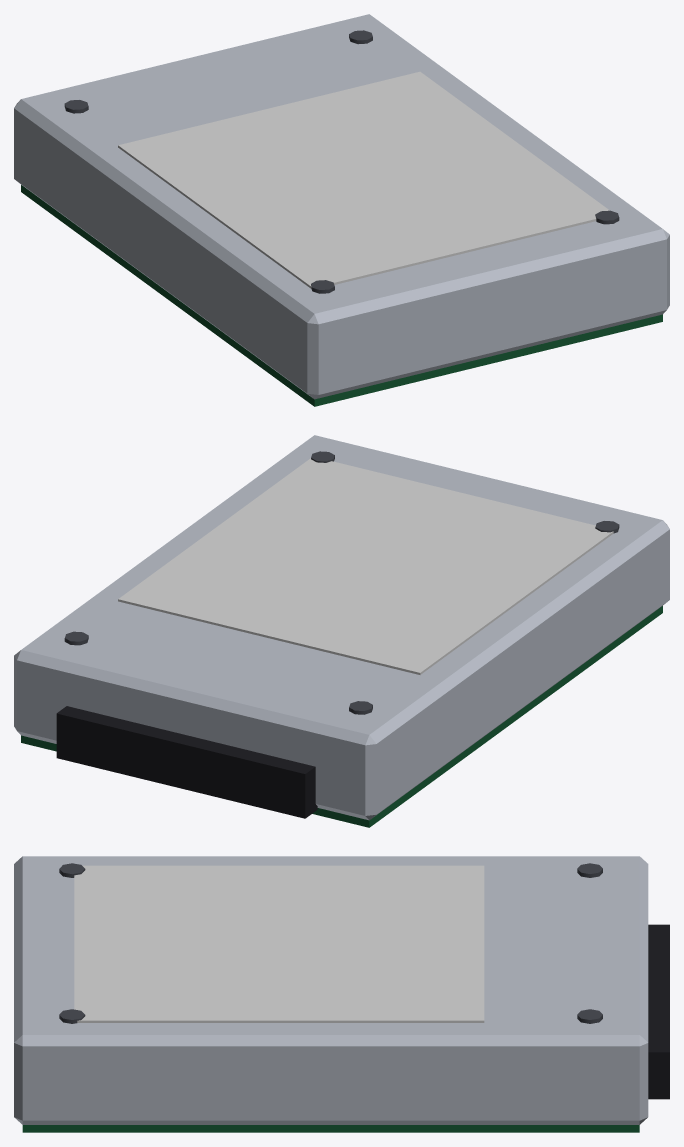
3 renders of one model, top to bottom at view 1: azimuth 30°, elevation 25°; view 2: azimuth 150°, elevation 25°; view 3: azimuth 270°, elevation 25°, orthographic. The views are drawn at different scales.
Parts seen in each view (by area): view 1: hd_35; view 2: hd_35; view 3: hd_35.
Part boxes in pixels (<box>): hd_35: <box>14,14,669,406</box>; hd_35: <box>14,435,669,827</box>; hd_35: <box>14,856,669,1132</box>.
Size of the model in its own units: 0.102 by 0.026 by 0.152.
